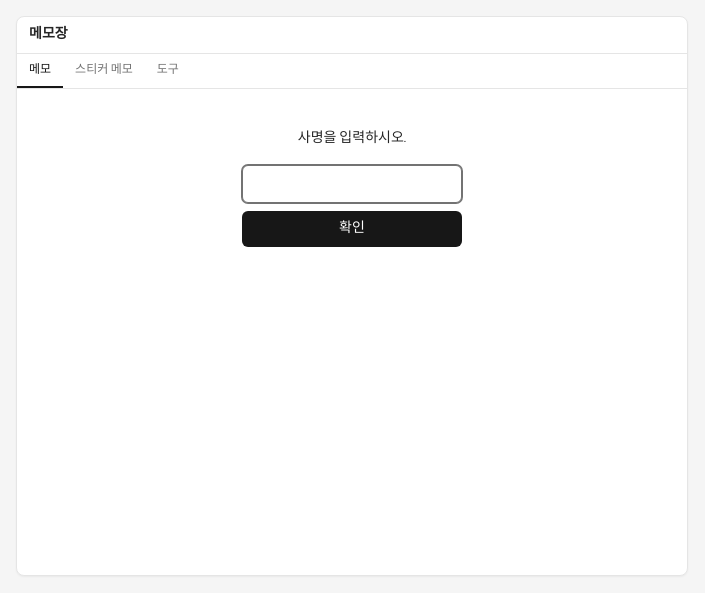
Scenario: App navigation › shows 메모 as the default active tab, gated until the access phrase is entered
Expected: the text "사명을 입력하시오." is shown, x1=298 y1=129 x2=406 y2=149
Expected: the text "아직 메모가 없습니다" is not shown
Type "강박여" into the field named "사명을 입력하시오." at x=352, y=184, box x1=242 y1=165 x2=462 y2=203
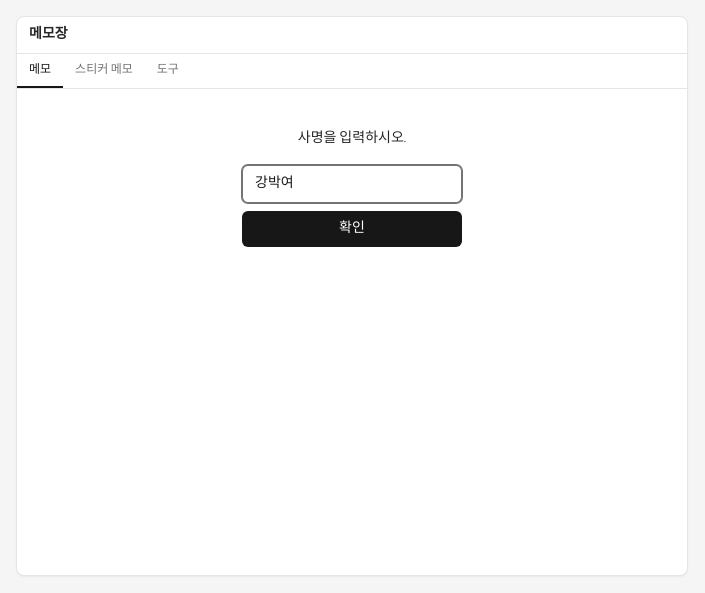
Click the button "확인" at x=352, y=229, box x1=242 y1=211 x2=462 y2=247
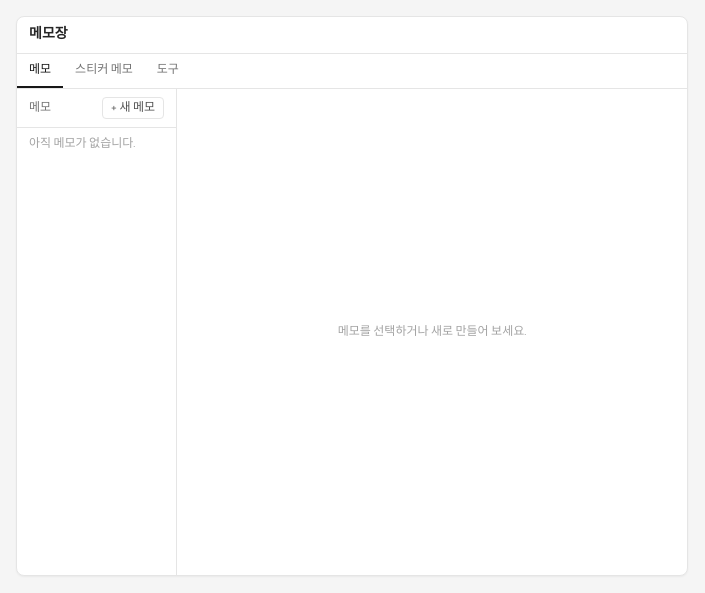
Expected: the text "아직 메모가 없습니다." is shown, x1=29 y1=138 x2=135 y2=150
